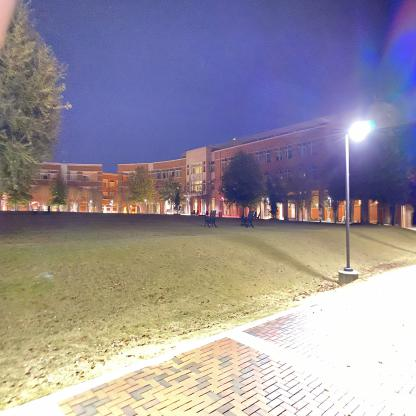eb3: (118, 108, 406, 228)
